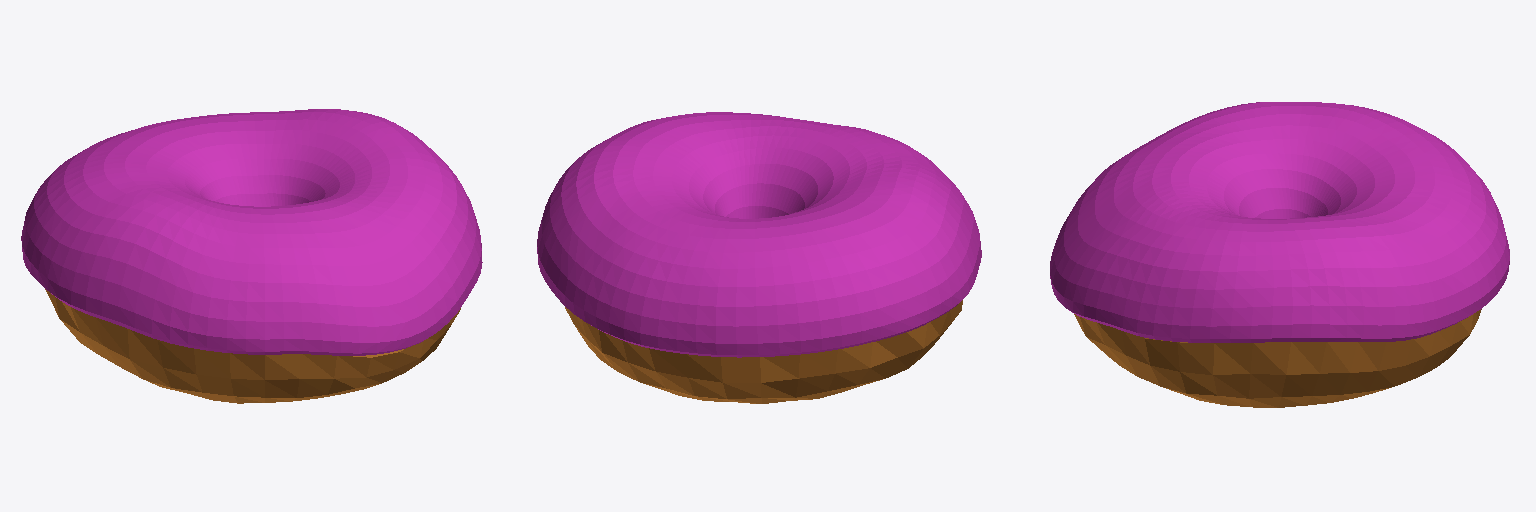
File: donut.obj
3 views of the same model, side by side, from view 1: azimuth 30°, elevation 25°; view 2: azimuth 150°, elevation 25°; view 3: azimuth 270°, elevation 25° (orthographic).
Visible parts, largest first — view 1: Icing, Torus; view 2: Icing, Torus; view 3: Icing, Torus.
Part boxes in pixels (x1,y1,x2,y2): Icing: (21, 109, 482, 355); Torus: (45, 289, 460, 403); Icing: (537, 112, 981, 357); Torus: (565, 300, 962, 403); Icing: (1050, 102, 1509, 342); Torus: (1074, 309, 1481, 407).
Bounding box in the file's own units: 0.112 × 0.0498 × 0.1136.